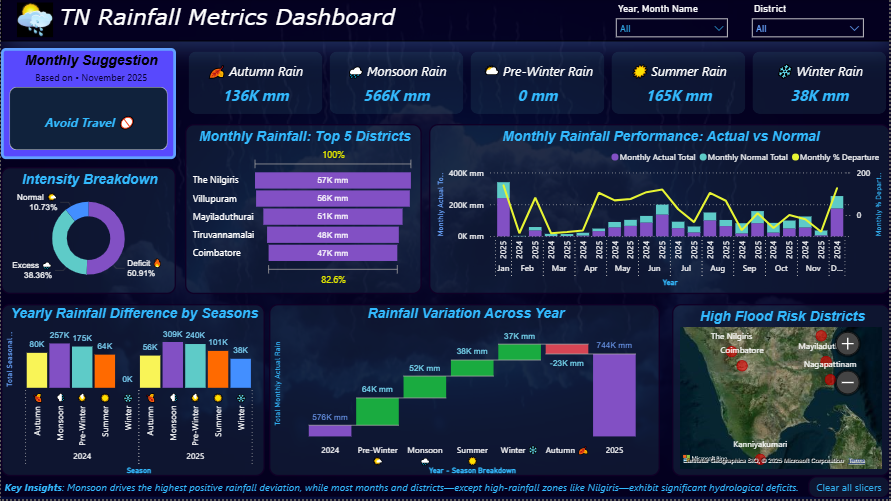

This screenshot's page, from the dashboard's own definition file:
{"tool":"powerbi","page":{"name":"Rainfall Metrics Dashboard","canvas":[1280,720],"ordinal":2},"visuals":[{"type":"textbox","box":[0,0,1280,61.2],"z":0},{"type":"lineStackedColumnComboChart","title":"Monthly Rainfall Performance: Actual vs Normal","fields":{"Y":["Measure.Monthly Actual Total","Measure.Monthly Normal Total"],"Category":["Calendar.Month Name","Calendar.Year"],"Y2":["Measure.Monthly % Departure"]},"box":[616.3,180,663.8,244.8],"z":1000},{"type":"ribbonChart","title":"Yearly Rainfall Difference by Seasons","fields":{"Category":["Calendar.Year","Calendar.Season"],"Series":["Calendar.Season"],"Y":["Measure.Total Seasonal Rainfall"]},"box":[0,439.2,380.2,247.7],"z":2000},{"type":"funnel","title":"Monthly Rainfall: Top 5 Districts","fields":{"Category":["Dim_District.District"],"Y":["Measure.Monthly Actual Total"]},"box":[265,180,341.3,244.8],"z":3000},{"type":"map","title":"High Flood Risk Districts","fields":{"Category":["Dim_District.District"],"Series":["Rainfall Metrics.Monthly Flood Risk"],"Size":["Measure.High Flood Risk Bubble Size"]},"box":[966.2,439.2,313.9,247.7],"z":4000},{"type":"slicer","fields":{"Values":["Dim_District.District"]},"box":[1071.1,0,180.5,61.2],"z":5000},{"type":"slicer","fields":{"Values":["Calendar.Year","Calendar.Month Name"]},"box":[875.9,0,181.4,60.9],"z":6000},{"type":"donutChart","title":"Intensity Breakdown","fields":{"Series":["Rainfall Metrics.Monthly Severity Category"],"Category":["Rainfall Metrics.Monthly Severity Category"],"Y":["CountNonNull(Rainfall Metrics.District)"]},"box":[0,241.9,252,182.9],"z":7000},{"type":"cardVisual","title":"Monthly Suggestion","fields":{"Data":["Measure.Monthly Suggestion"]},"box":[0,70.6,252,159.8],"z":8000},{"type":"cardVisual","fields":{"Data":["Measure.Autumn Rain","Measure.Monsoon Rain","Measure.PostMonsoon Rain","Measure.Summer Rain","Measure.Winter Rain"]},"box":[265,70.6,1015.2,100.8],"z":9000},{"type":"actionButton","box":[1162.1,686.9,118.1,32],"z":10000},{"type":"waterfallChart","title":"Rainfall Variation Across Year","fields":{"Breakdown":["Calendar.Season"],"Category":["Calendar.Year"],"Y":["Sum(Rainfall Metrics.Monthly Actual (mm))"]},"box":[385.9,439.2,563,247.7],"z":11000},{"type":"textbox","box":[0,686.9,1162.1,31.7],"z":12000},{"type":"image","box":[0,0,97.9,60.5],"z":12001}]}

Visuals, with their boxes in screenshot pixels (x1, y1, x2, y2), scaled from the page's 1280x720 canvas onto the 891x501 screenshot:
textbox: pyautogui.locateOnScreen(0, 0, 890, 43)
"Monthly Rainfall Performance: Actual vs Normal" lineStackedColumnComboChart: pyautogui.locateOnScreen(429, 125, 890, 296)
"Yearly Rainfall Difference by Seasons" ribbonChart: pyautogui.locateOnScreen(0, 306, 265, 478)
"Monthly Rainfall: Top 5 Districts" funnel: pyautogui.locateOnScreen(184, 125, 422, 296)
"High Flood Risk Districts" map: pyautogui.locateOnScreen(673, 306, 890, 478)
slicer - Dim_District.District: pyautogui.locateOnScreen(746, 0, 871, 43)
slicer - Calendar.Year x Calendar.Month Name: pyautogui.locateOnScreen(610, 0, 736, 42)
"Intensity Breakdown" donutChart: pyautogui.locateOnScreen(0, 168, 175, 296)
"Monthly Suggestion" cardVisual: pyautogui.locateOnScreen(0, 49, 175, 160)
cardVisual - Measure.Autumn Rain x Measure.Monsoon Rain: pyautogui.locateOnScreen(184, 49, 890, 119)
actionButton: pyautogui.locateOnScreen(809, 478, 890, 500)
"Rainfall Variation Across Year" waterfallChart: pyautogui.locateOnScreen(269, 306, 661, 478)
textbox: pyautogui.locateOnScreen(0, 478, 809, 500)
image: pyautogui.locateOnScreen(0, 0, 68, 42)
